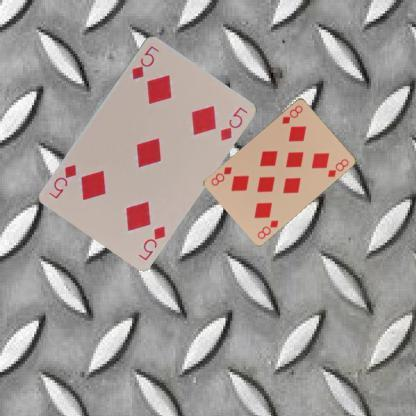5d: (126, 42, 160, 83), (135, 222, 167, 262)
8d: (255, 217, 280, 240), (279, 102, 304, 124)
